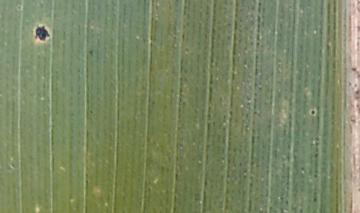tarspot: (32, 24, 51, 44), (86, 48, 96, 58), (309, 108, 317, 117)
